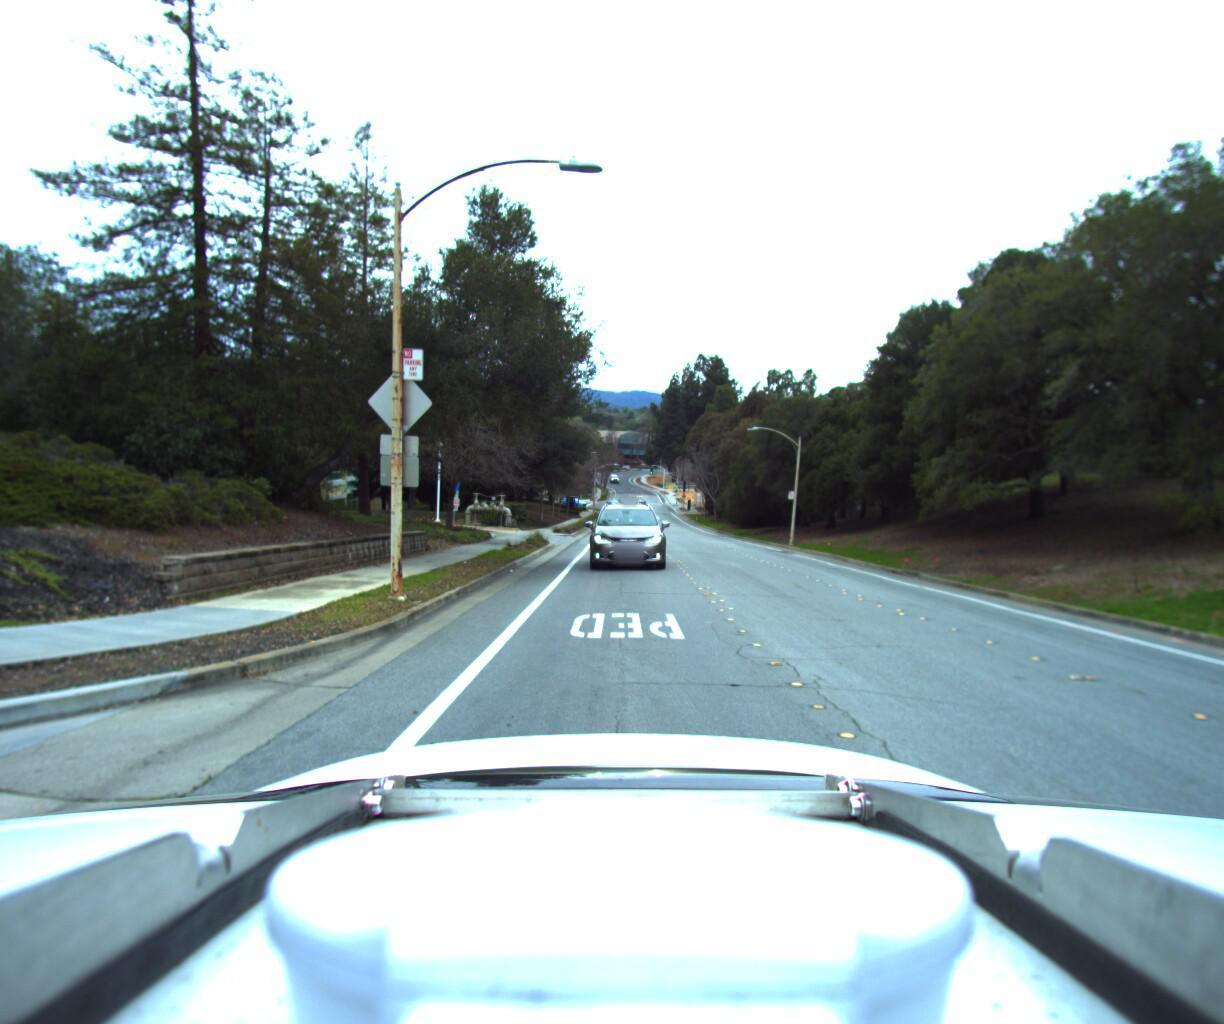car: (583, 489, 666, 579)
